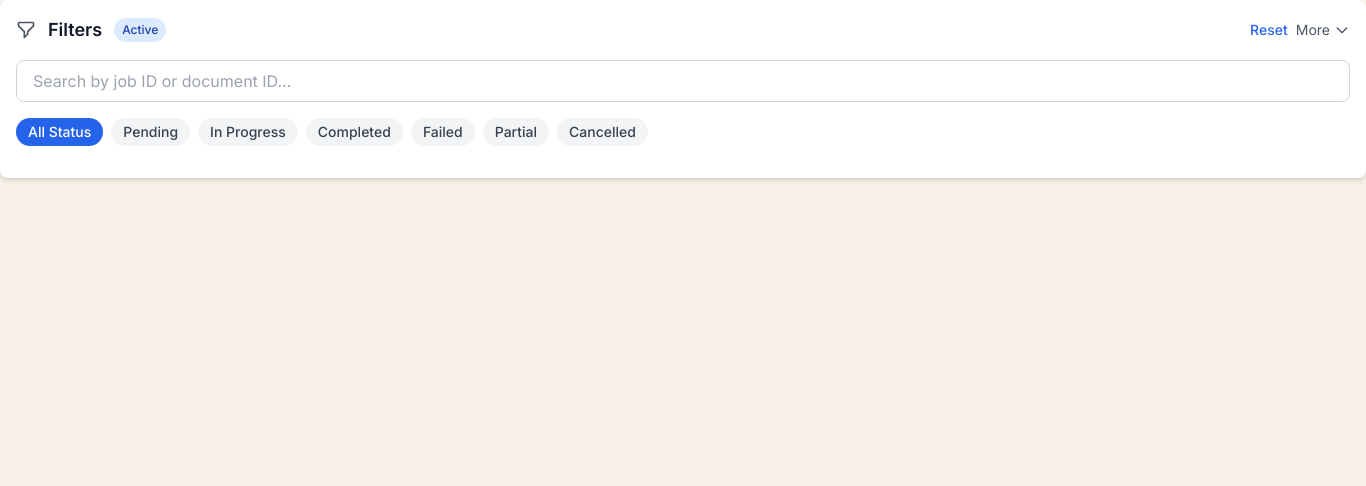
Test: AdvancedJobFilters › Active Filters Summary (Expanded) › should display selected channels in summary
This screenshot has width=1366, height=486.
Click the button "More" at [1323, 30], box x1=1296 y1=20 x2=1350 y2=40
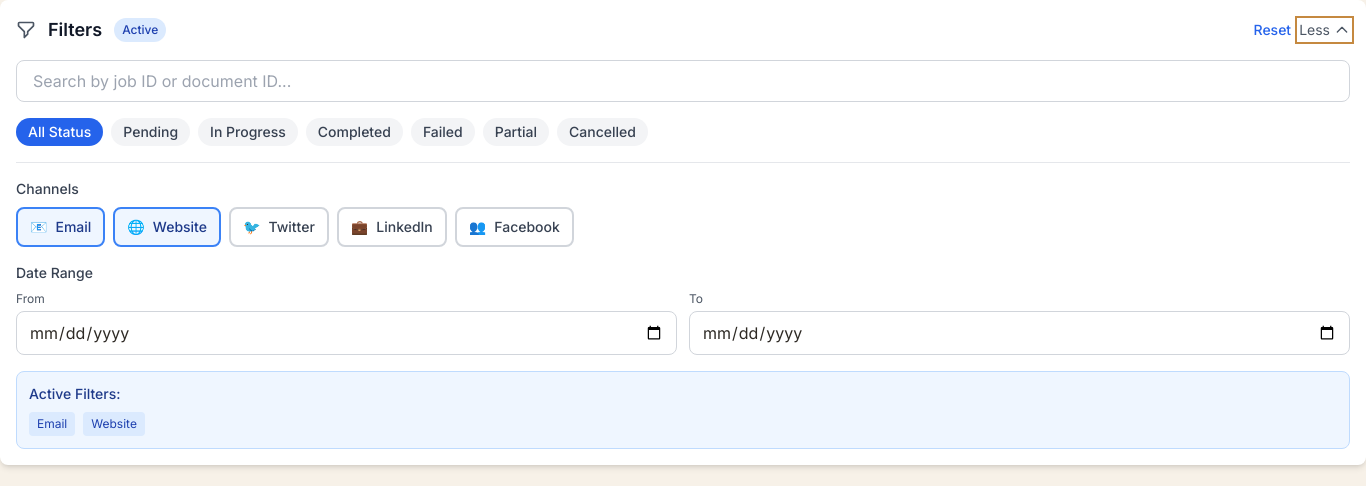
Check: the text "Active Filters:" shows "Email", box x1=37 y1=416 x2=67 y2=431
Check: the text "Active Filters:" shows "Website", box x1=91 y1=416 x2=137 y2=431
